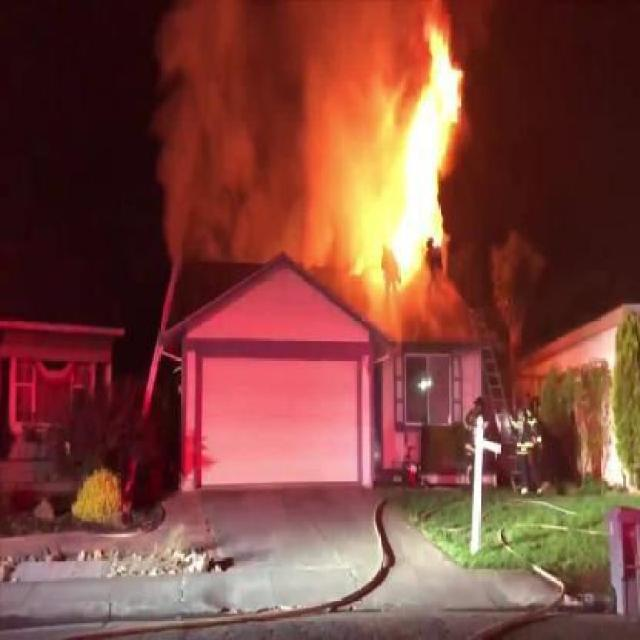Fire: (376, 20, 469, 292)
